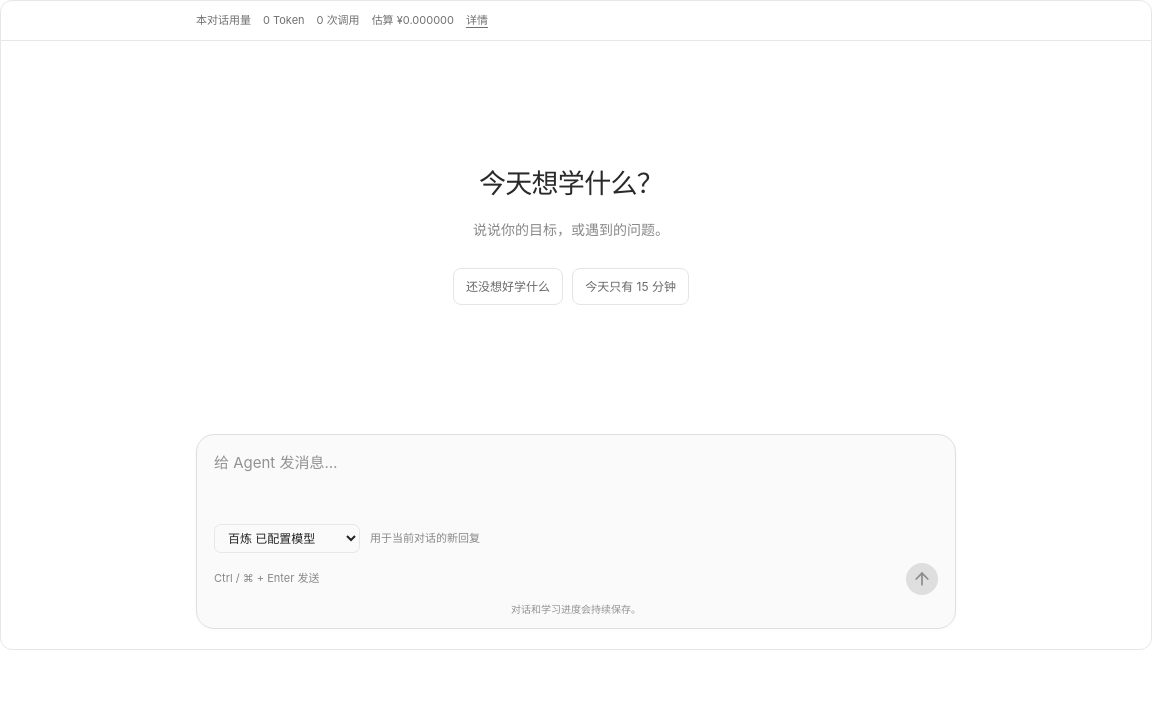
direct Agent conversation › preserves the previous model and draft when switching fails
Type "保留这段草稿" into the text box named "给学习伙伴发消息".
click(576, 481); type("保留这段草稿")  # box [214,450,938,512]
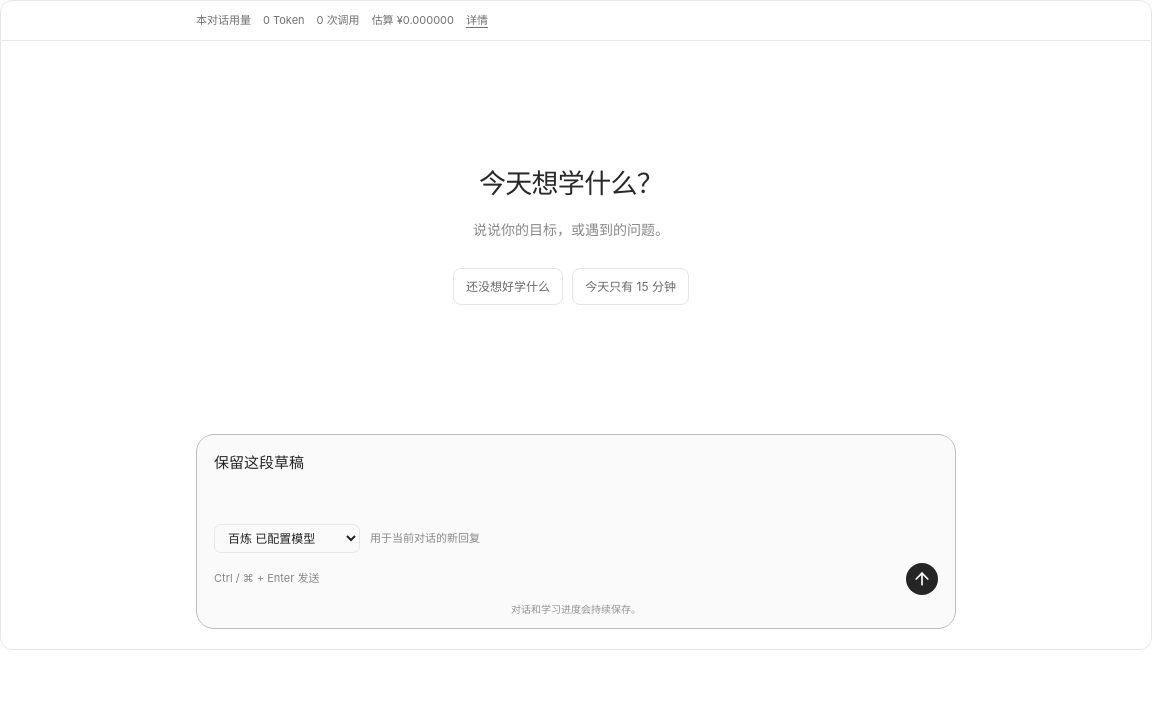
Select "智谱 第二个模型" in the dropdown named "对话模型" at (287, 538), box [214,524,360,553]
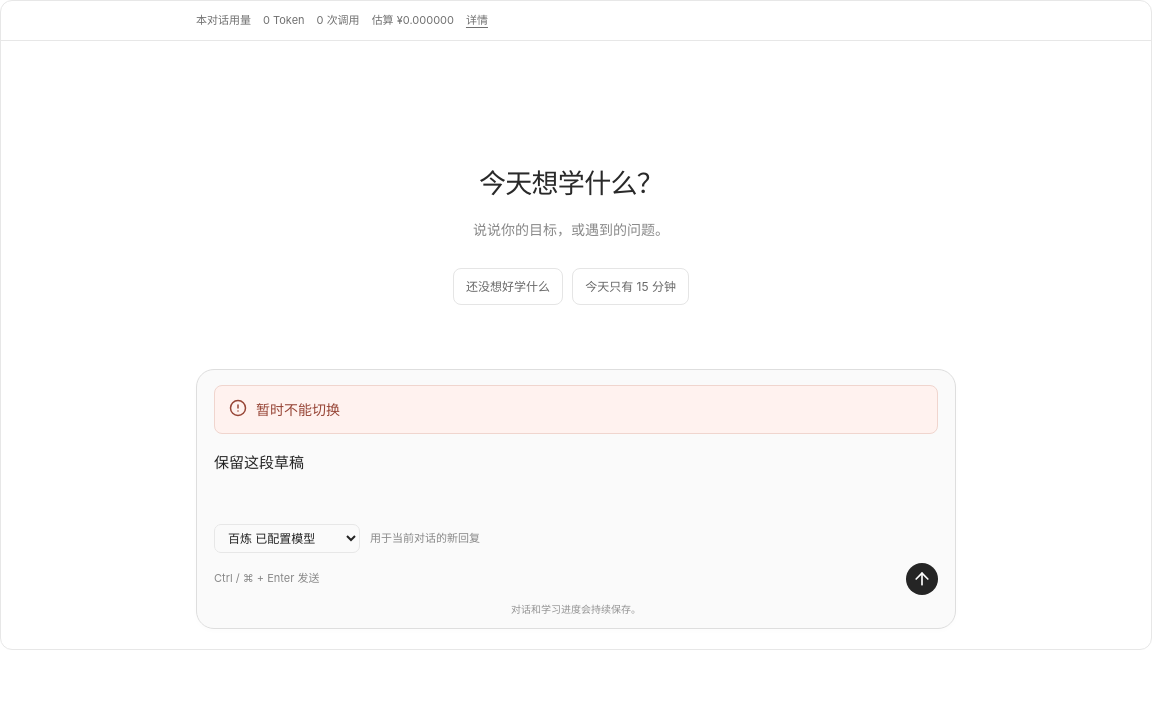
Expected: the message reads "暂时不能切换", [256,401,340,418]
